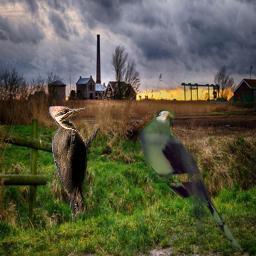Cuckoo: (138, 109, 248, 251)
Woodpecker: (49, 106, 100, 222)
